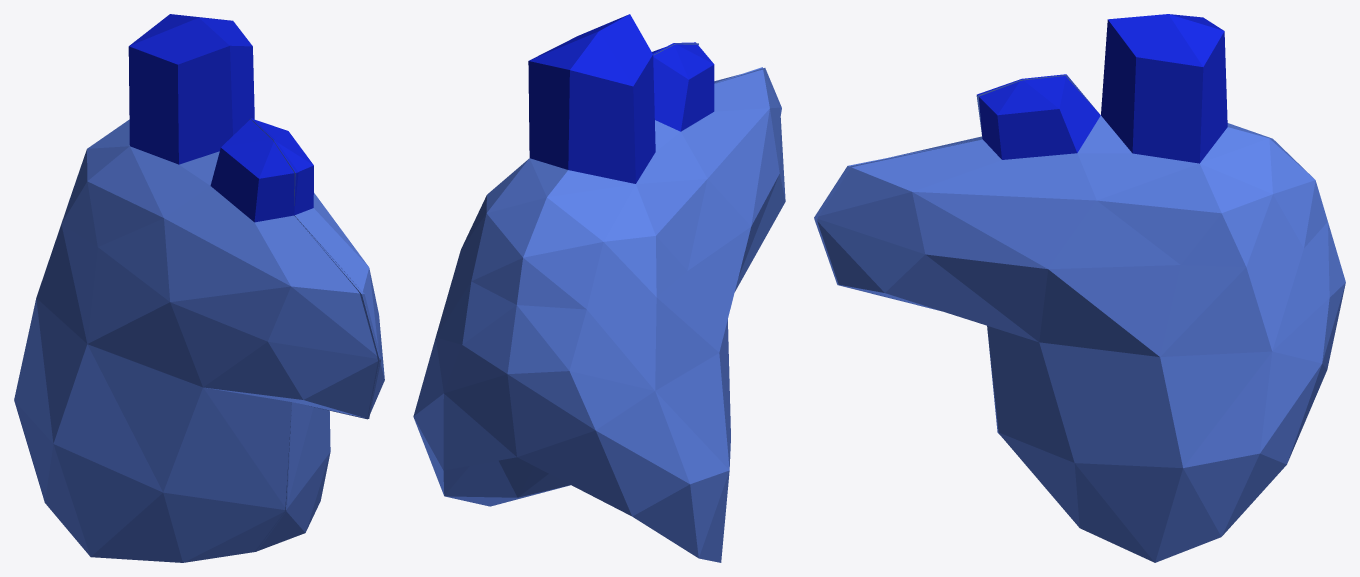
File: protein_2.fbx
3 renders of one model, left to right at view 1: azimuth 30°, elevation 25°; view 2: azimuth 150°, elevation 25°; view 3: azimuth 270°, elevation 25°, orthographic. The views are drawn at different scales.
Parts seen in each view (by area): view 1: Icosphere; view 2: Icosphere; view 3: Icosphere.
Boxes of the visible parts, x1=… form: Icosphere: x1=14, y1=14, x2=384, y2=562; Icosphere: x1=413, y1=14, x2=785, y2=562; Icosphere: x1=814, y1=14, x2=1345, y2=562.
Size of the model in its own units: 250 by 438 by 428.
